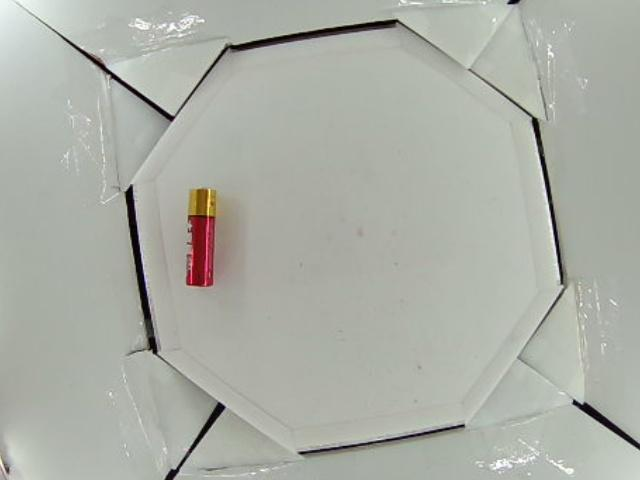Battery: (186, 187, 217, 288)
